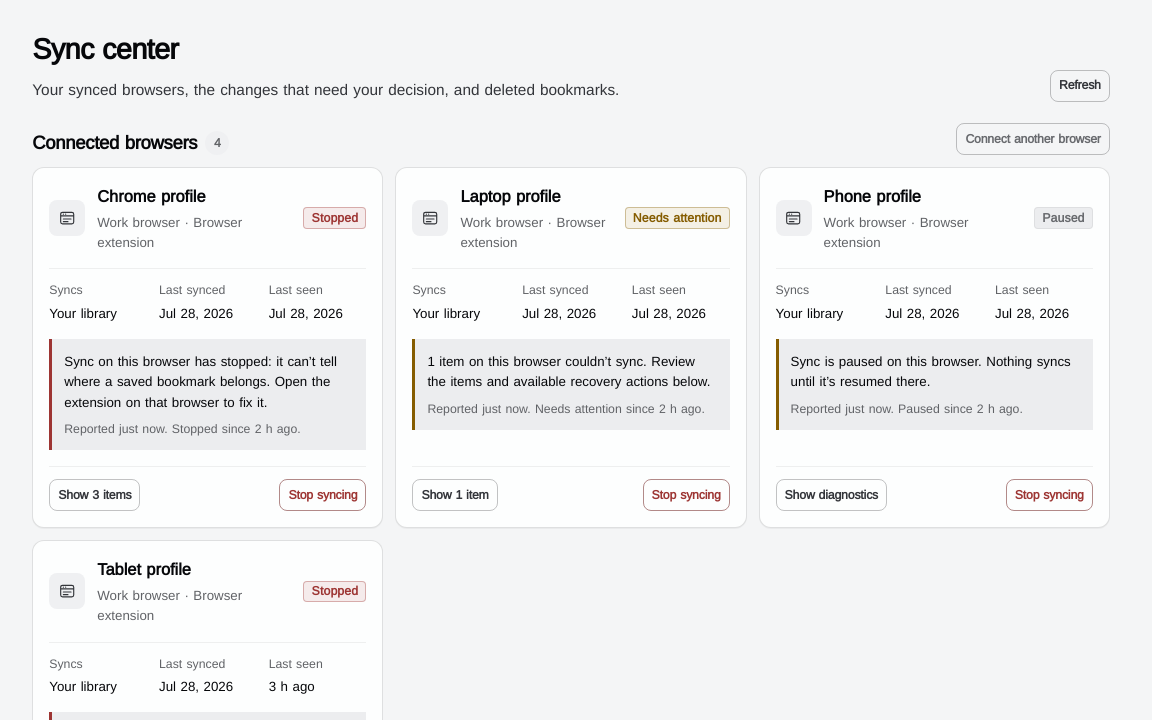
Test: Sync Center authoritative workflow › says why a browser stopped, and lists what it set aside on request
The width and height of the screenshot is (1152, 720).
expect the button "Show diagnostics" is shown: met, box [776,479,887,511]
The items open in a dialog, so the card keeps its height.
Click the button "Show 3 items": (95, 495) [49,479,140,511]
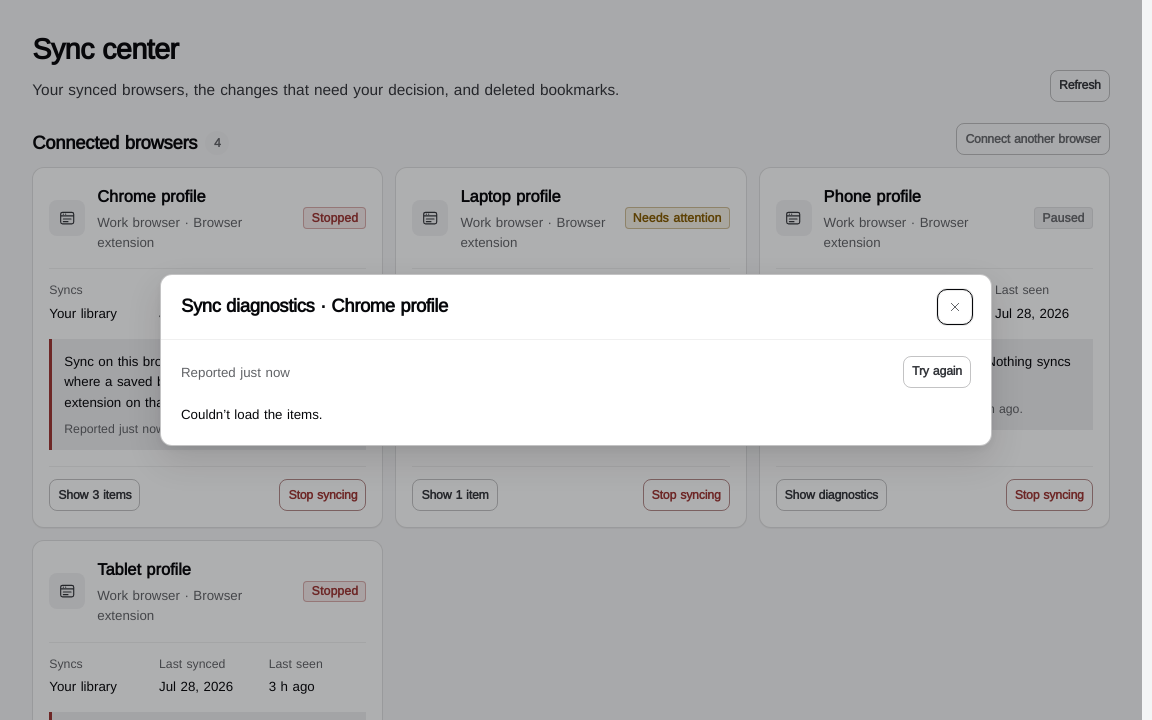
expect the dialog shows "Sync diagnostics · Chrome profile": met, box [181,295,448,316]
Click the button "Try again": (937, 372) [903,356,971,388]
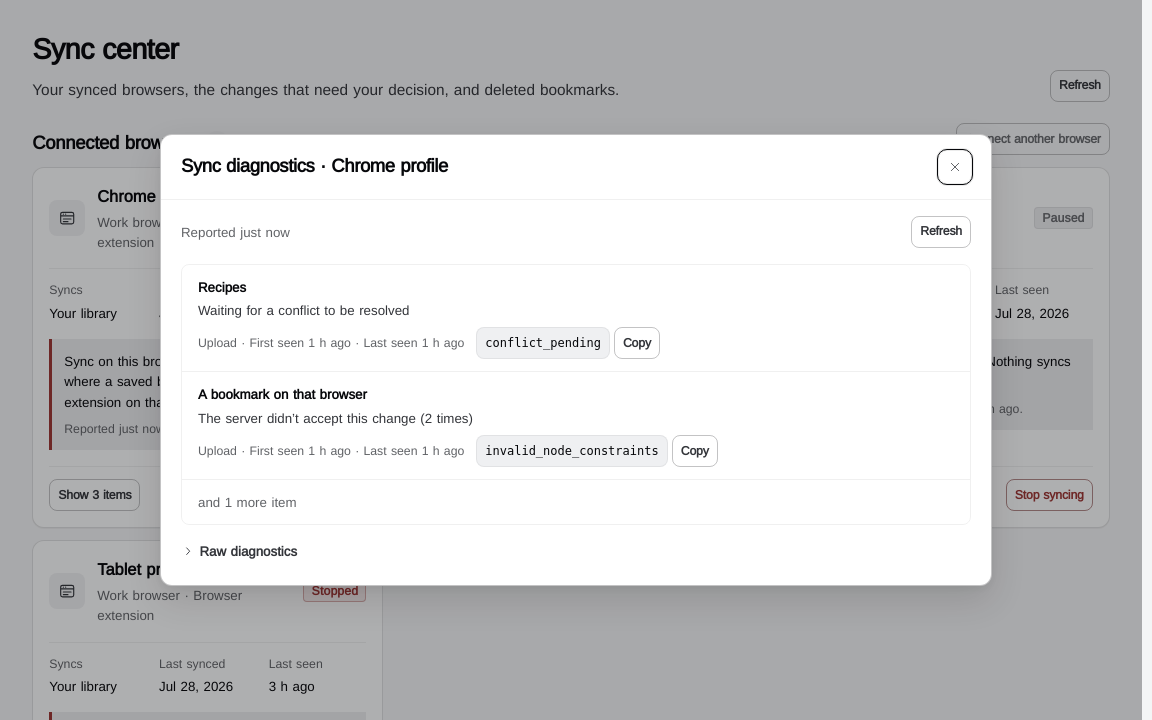
expect the text "Recipes" is not shown: met
expect the text "and 1 more item" is shown: met, box [198,494,297,510]
